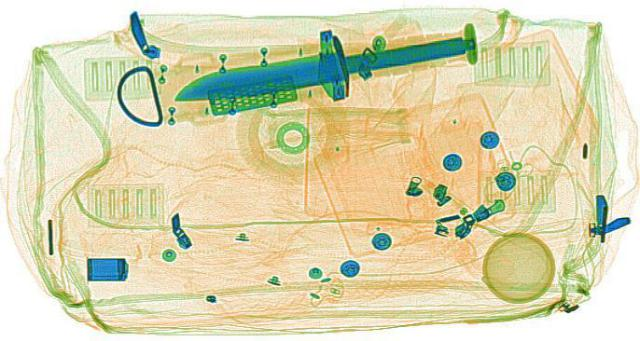Knife: (137, 0, 507, 127)
